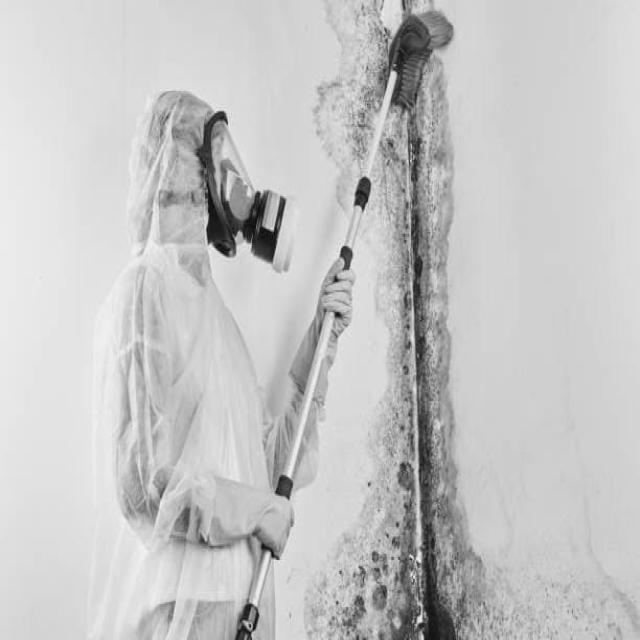stain marks: (301, 0, 532, 640)
